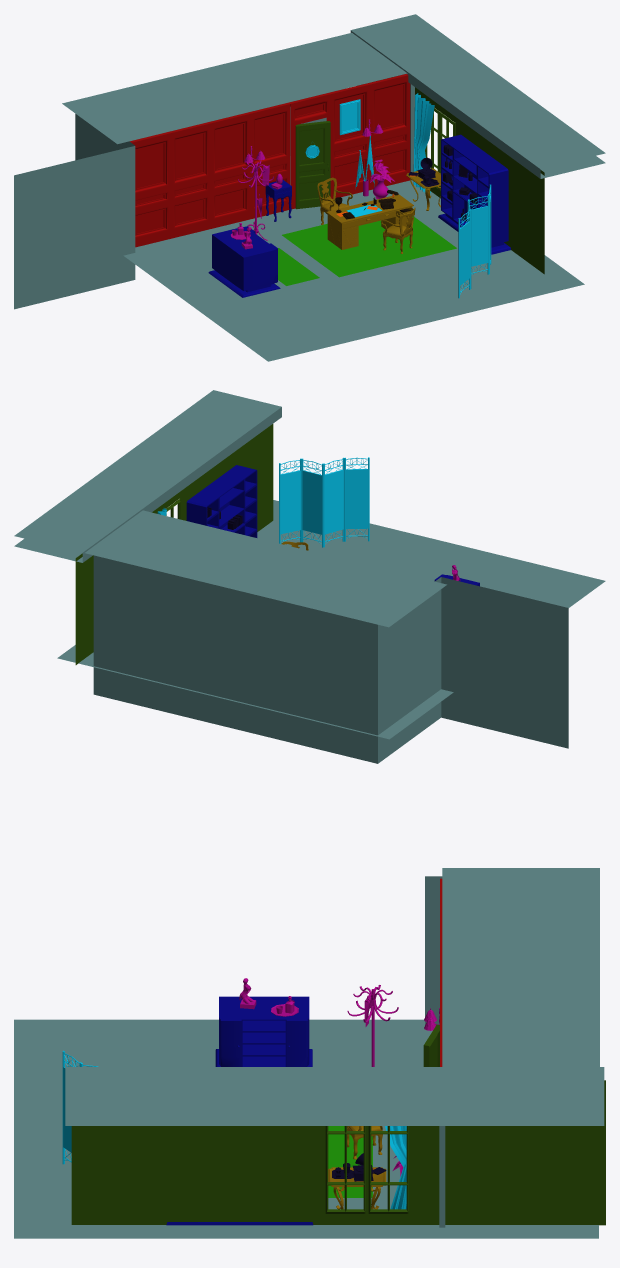
The model's file is bureau_pack.FBX.
3 views of the same model, one above another, from view 1: azimuth 30°, elevation 25°; view 2: azimuth 150°, elevation 25°; view 3: azimuth 270°, elevation 25° (orthographic). The views are drawn at different scales.
Visible parts, largest first — view 1: sol, mur_gauche, plafond_fond, plafond_fenetre, bibliotheque (×2), tapis, mur_fenetre, Object014, Object015, Object004, Object016, Object013 (+13 smaller); view 2: mur_gauche, plafond_fond, plafond_fenetre, sol, paravent, mur_fenetre, bibliotheque; view 3: mur_fenetre, sol, plafond_fenetre, plafond_fond, bibliotheque, mur_gauche, fenetre, fenetre2, tapis, rideau, 2CHARPE, paravent (+2 smaller).
Boxes of the visible parts, x1,y1,x2,y2 form: sol: (123,156,584,361); mur_gauche: (14,100,326,309); plafond_fond: (62,33,407,144); plafond_fenetre: (350,14,605,178); bibliotheque (×2): (208,134,510,297); tapis: (282,216,456,277); mur_fenetre: (392,77,544,274); Object014: (210,112,250,228); Object015: (169,122,210,238); Object004: (368,74,410,189); Object016: (130,132,170,247); Object013: (249,102,290,219); mur_gauche: (93,555,568,763); plafond_fond: (85,510,446,627); plafond_fenetre: (14,390,281,562); sol: (57,500,605,739); paravent: (279,457,369,547); mur_fenetre: (75,424,273,664); bibliotheque: (186,465,257,537); mur_fenetre: (71,1080,605,1225); sol: (14,1019,598,1238); plafond_fenetre: (65,1067,604,1125); plafond_fond: (442,868,599,1066); bibliotheque: (215,996,312,1066); mur_gauche: (425,876,442,1024); fenetre: (367,1126,410,1213); fenetre2: (324,1126,367,1213); tapis: (328,1126,372,1197); rideau: (385,1126,406,1209); 2CHARPE: (347,985,398,1066); paravent: (62,1050,98,1164).
Bounding box in the file's own units: 2614 × 727 × 2031.
